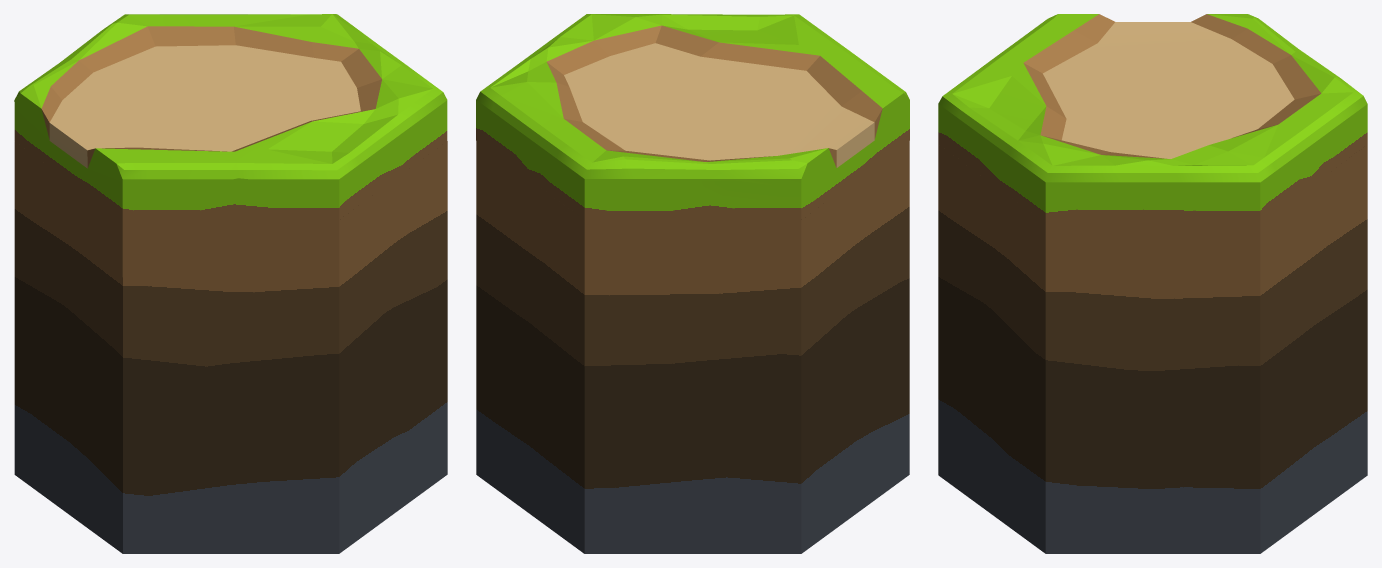
Rendered from HexTilePath_SingleConnection_2.glb.
3 views of the same model, side by side, from view 1: azimuth 30°, elevation 25°; view 2: azimuth 150°, elevation 25°; view 3: azimuth 270°, elevation 25° (orthographic).
Parts seen in each view (by area): view 1: HexTilePath_SingleConnection_2; view 2: HexTilePath_SingleConnection_2; view 3: HexTilePath_SingleConnection_2.
Part boxes in pixels (left/top/right/bottom): HexTilePath_SingleConnection_2: left=14, top=14, right=447, bottom=553; HexTilePath_SingleConnection_2: left=476, top=14, right=909, bottom=553; HexTilePath_SingleConnection_2: left=938, top=14, right=1367, bottom=553.
Bounding box in the file's own units: 1.73 × 1.99 × 2.
Materials: 1 (1 with a texture image).
